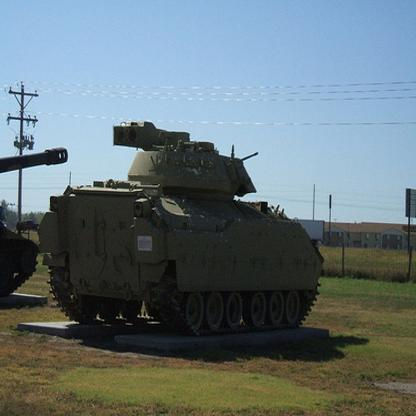Tank: (34, 110, 330, 341)
